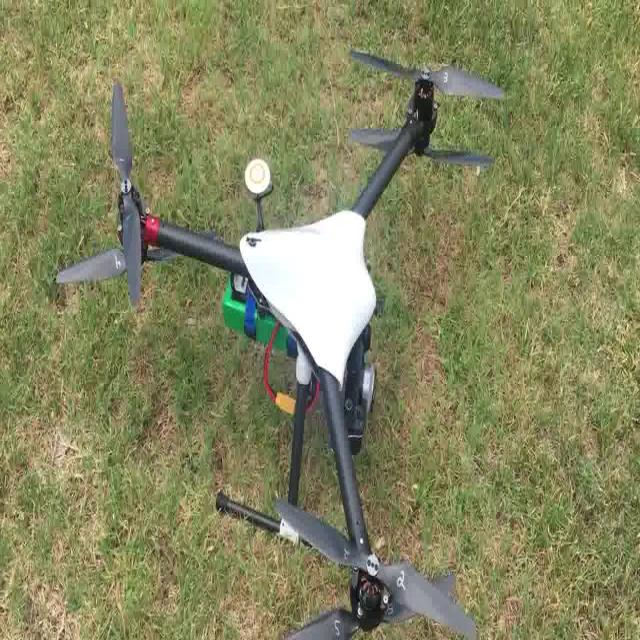drones: (49, 34, 519, 640)
